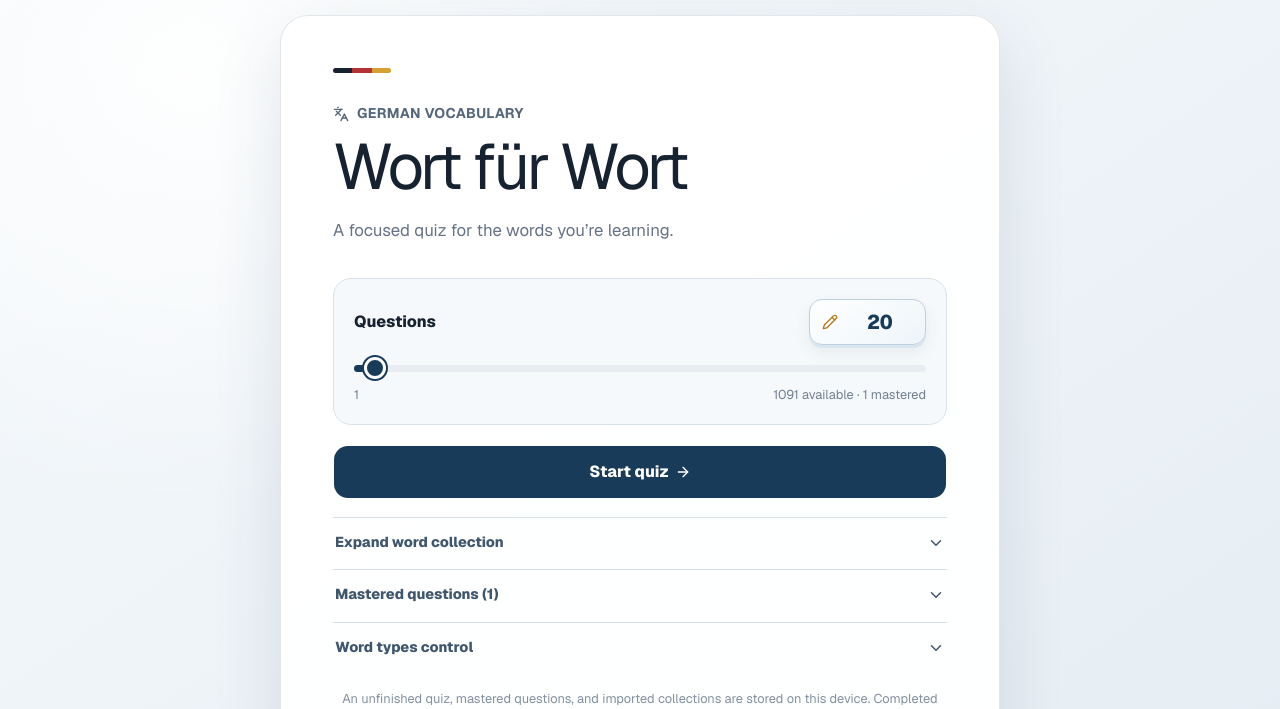
Test: quiz interface › shows every mastered question and lets the user practice one again
Click the button "Mastered questions (1)" at (411, 594), box [333, 569, 947, 620]
(page scrolled)
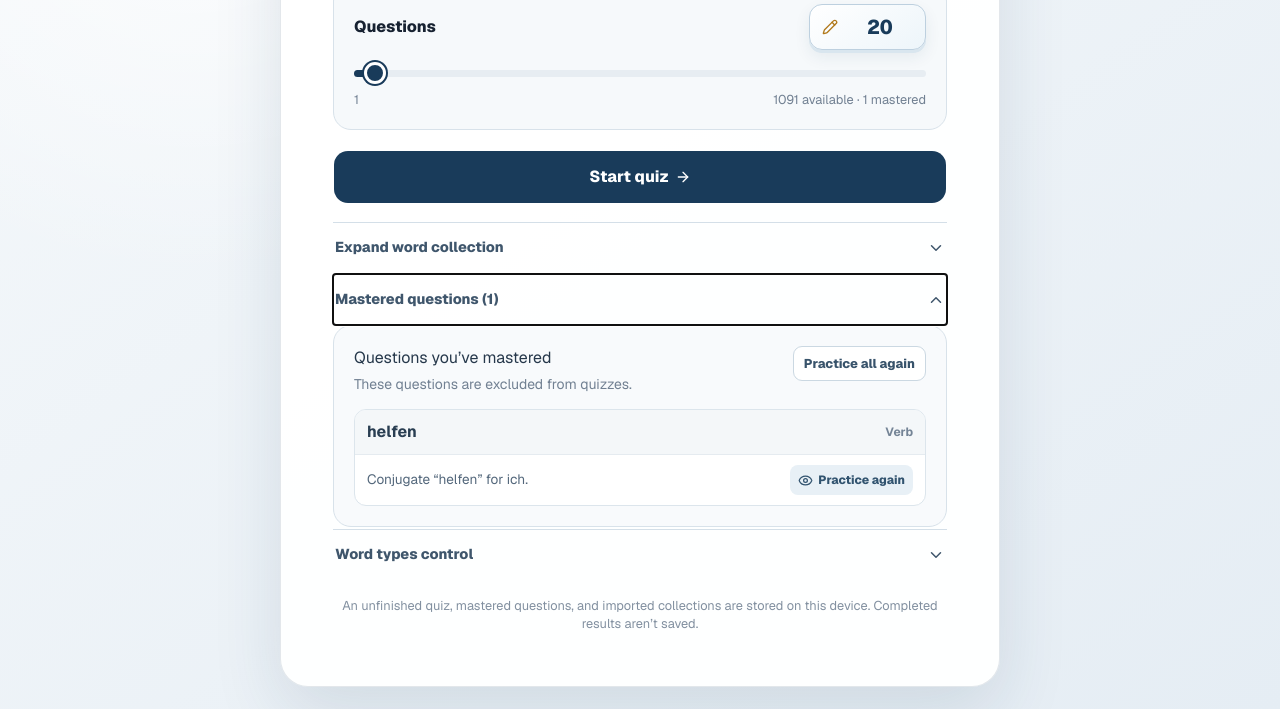
Check: the text "Conjugate “helfen” for ich." is shown, box [367, 470, 528, 490]
Click the button "Practice again" at (852, 480), box [790, 465, 913, 495]
(page scrolled)
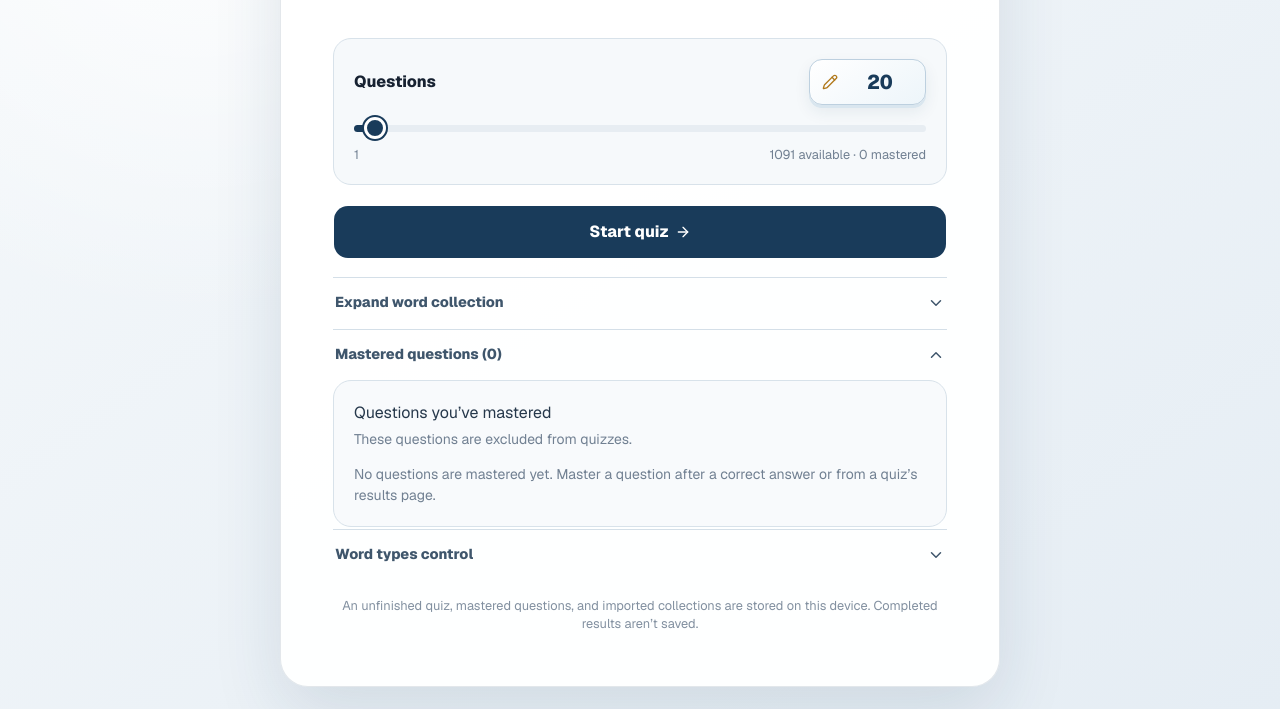
Check: the button "Mastered questions (0)" is shown, box [333, 329, 947, 380]
Check: the text "No questions are mastered yet" is shown, box [354, 465, 918, 504]
